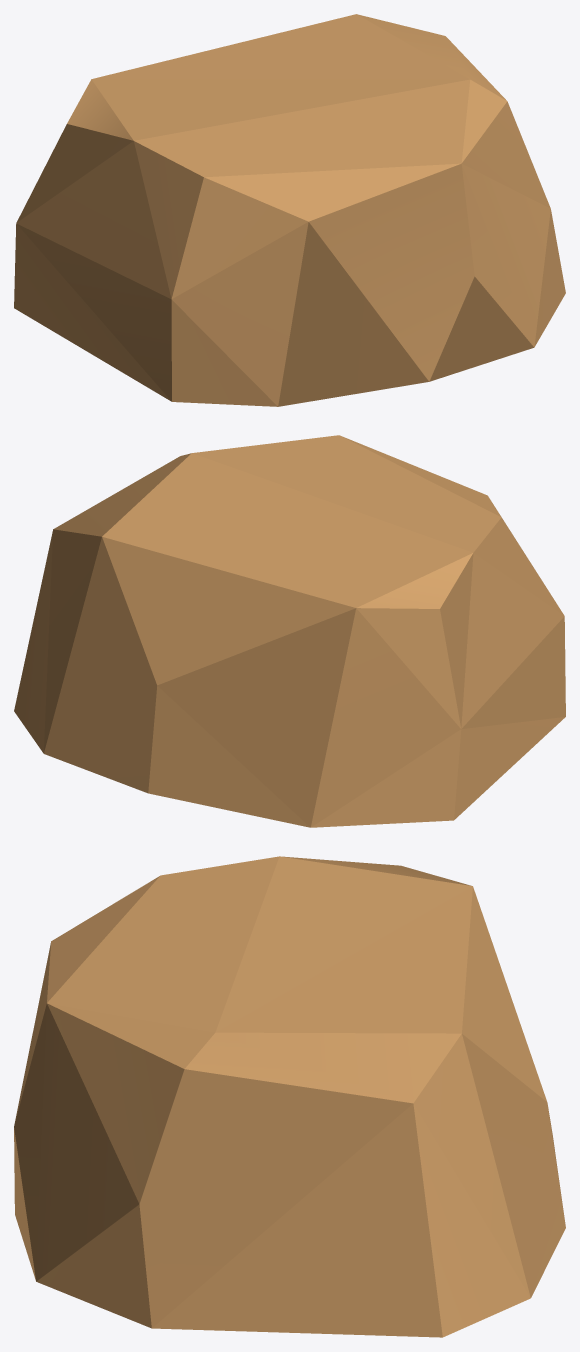
Rendered from decoration_stone_05.glb.
The picture shows the model from 3 angles, top to bottom: view 1: azimuth 30°, elevation 25°; view 2: azimuth 150°, elevation 25°; view 3: azimuth 270°, elevation 25°; orthographic projection. The views are drawn at different scales.
Visible parts, largest first — view 1: Plane.067; view 2: Plane.067; view 3: Plane.067.
Boxes of the visible parts, bbox=[...] form: Plane.067: bbox=[14, 14, 565, 406]; Plane.067: bbox=[14, 435, 565, 827]; Plane.067: bbox=[14, 856, 565, 1337].
Size of the model in its own units: 14.52 by 6.56 by 12.86.
Materials: 1 (1 with a texture image).
